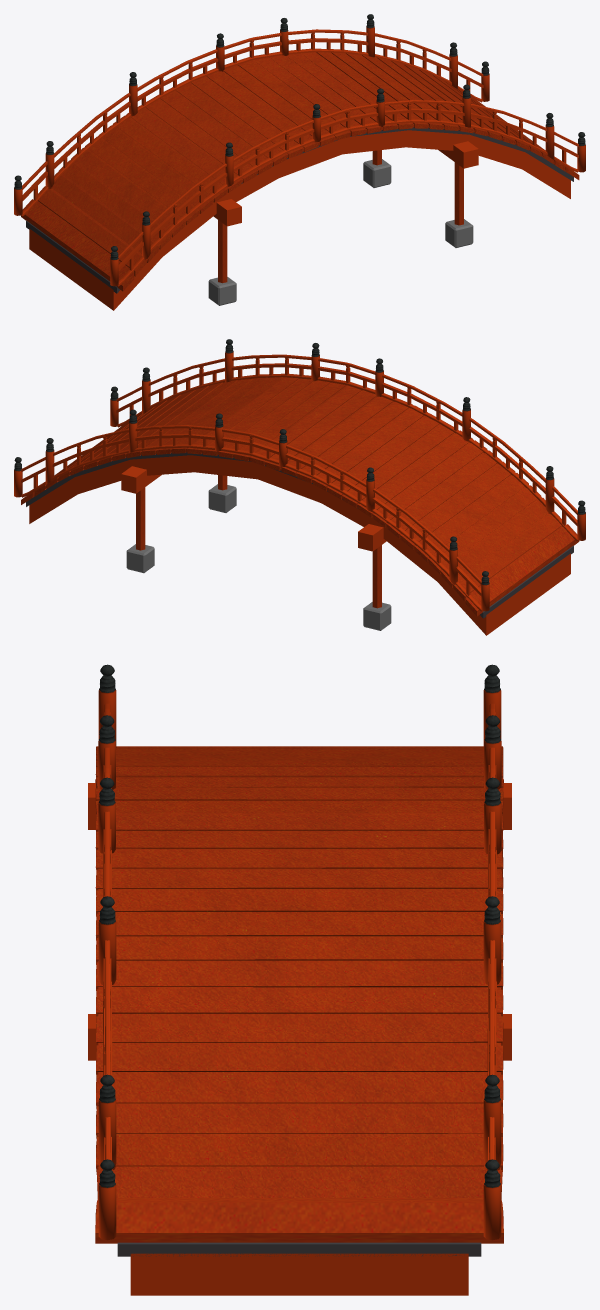
The model's file is Bridge.fbx.
3 views of the same model, one above another, from view 1: azimuth 30°, elevation 25°; view 2: azimuth 150°, elevation 25°; view 3: azimuth 270°, elevation 25° (orthographic). The views are drawn at different scales.
Parts seen in each view (by area): view 1: Bridge; view 2: Bridge; view 3: Bridge.
Part boxes in pixels (box(x1,y1,x2,y2)): Bridge: box(14, 14, 585, 310); Bridge: box(14, 339, 585, 635); Bridge: box(88, 664, 511, 1295).
Size of the model in its own units: 5787 by 2105 by 2236.
Materials: 5 (2 with a texture image).
